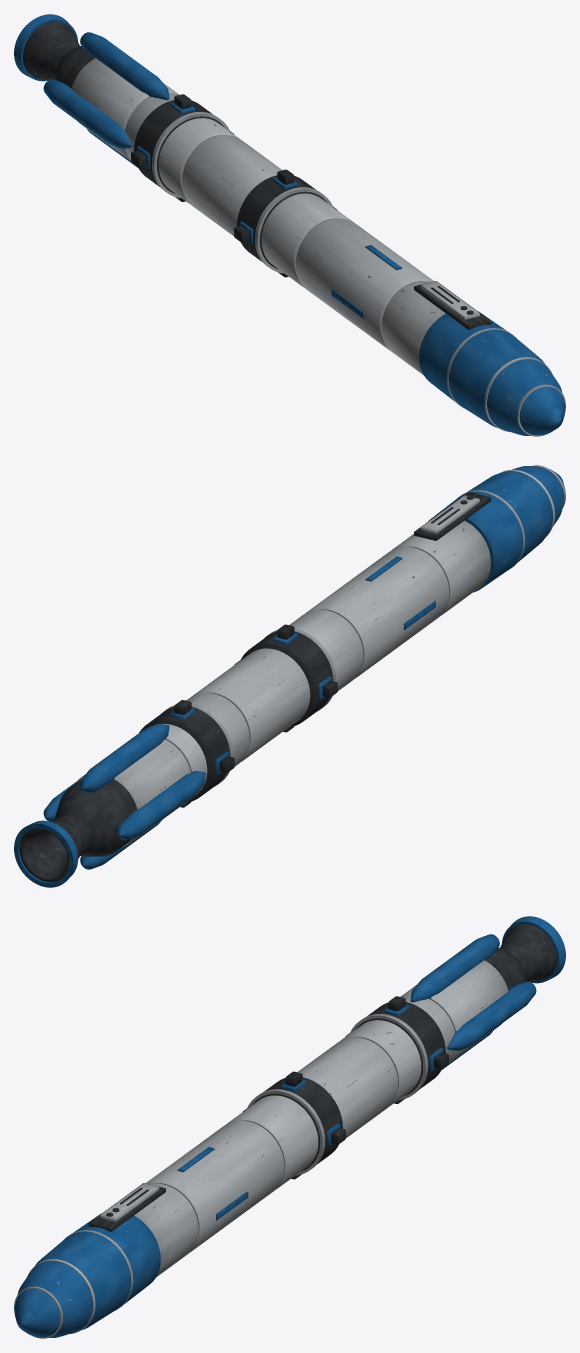
3 views of the same model, one above another, from view 1: azimuth 30°, elevation 25°; view 2: azimuth 150°, elevation 25°; view 3: azimuth 330°, elevation 25° (orthographic).
Parts seen in each view (by area): view 1: DecoySegmentMesh; view 2: DecoySegmentMesh; view 3: DecoySegmentMesh.
Part boxes in pixels (bbox=[...]): DecoySegmentMesh: bbox=[14, 14, 565, 436]; DecoySegmentMesh: bbox=[14, 465, 565, 887]; DecoySegmentMesh: bbox=[14, 916, 565, 1338].
Bounding box in the file's own units: 1.14 × 1.14 × 10.49.
1 material, 1 textured.
